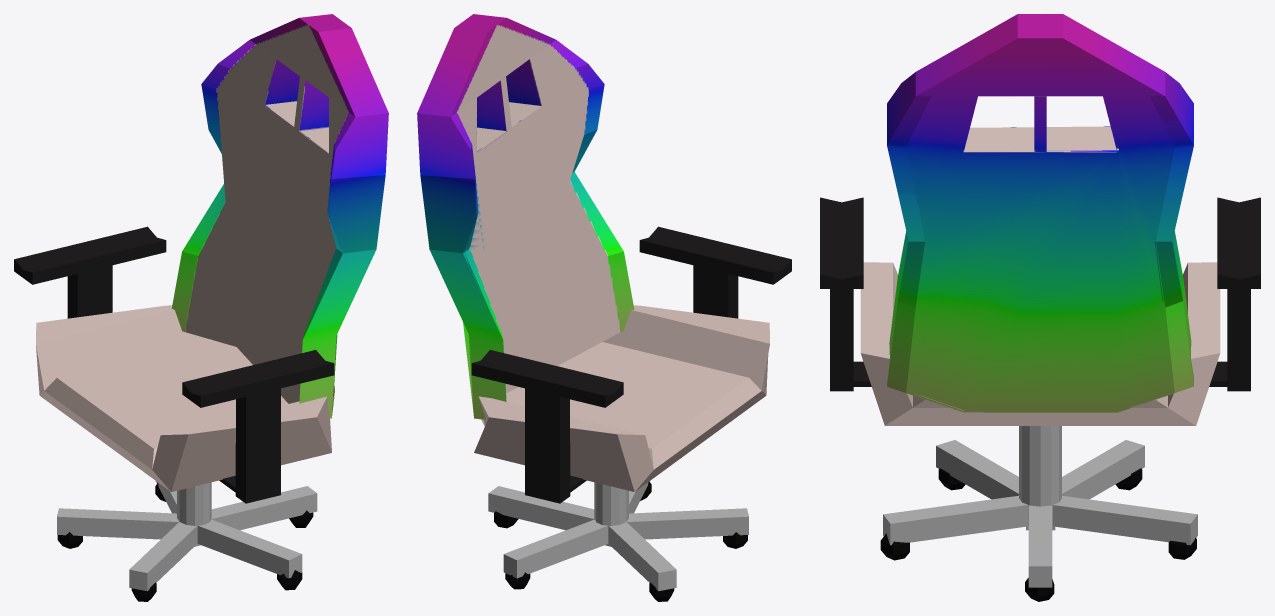
Rendered from chairWhite.fbx.
3 views of the same model, side by side, from view 1: azimuth 30°, elevation 25°; view 2: azimuth 150°, elevation 25°; view 3: azimuth 270°, elevation 25° (orthographic). The views are drawn at different scales.
Visible parts, largest first — view 1: Chair; view 2: Chair; view 3: Chair.
Boxes of the visible parts, x1,y1,x2,y2 form: Chair: [14, 14, 388, 601]; Chair: [417, 14, 791, 601]; Chair: [820, 14, 1260, 601].
Size of the model in its own units: 2.21 by 2.87 by 4.25.
